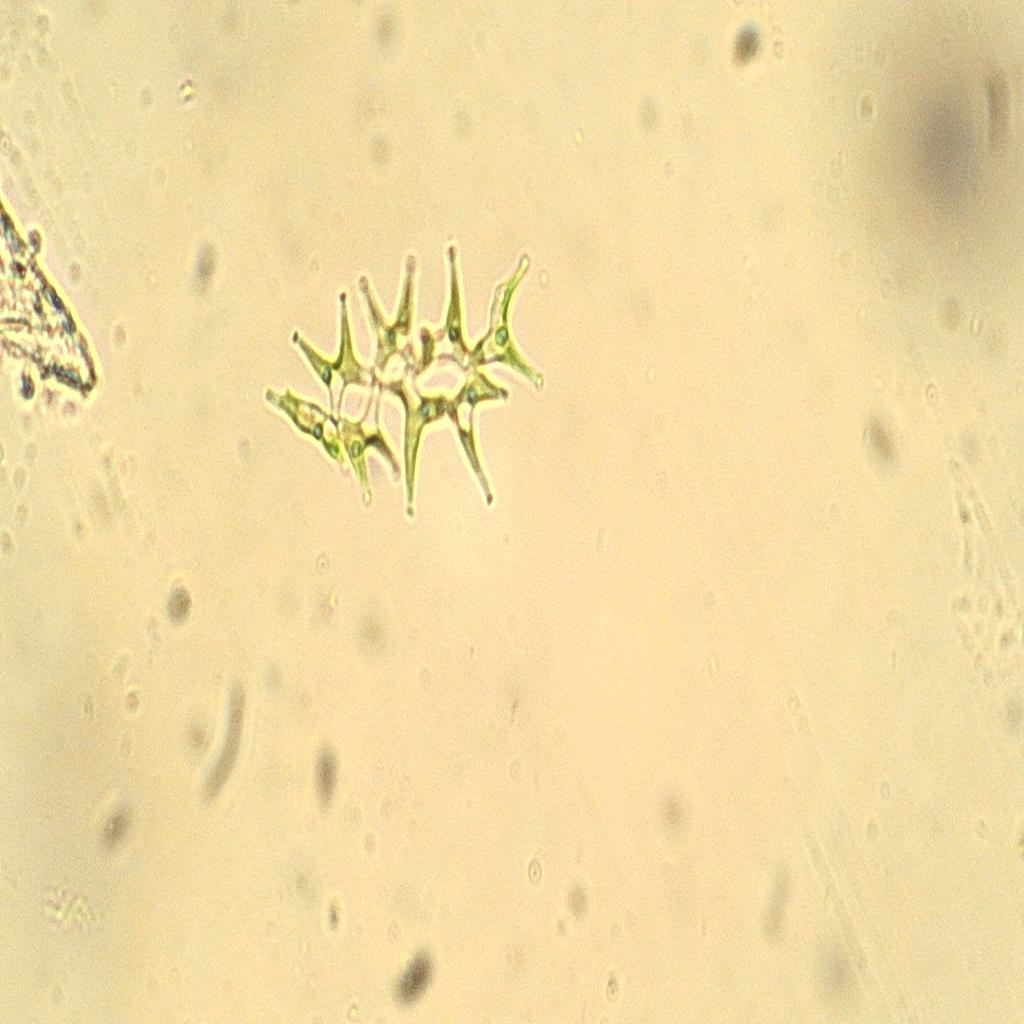Pediastrum_CFI: (257, 235, 563, 526)
